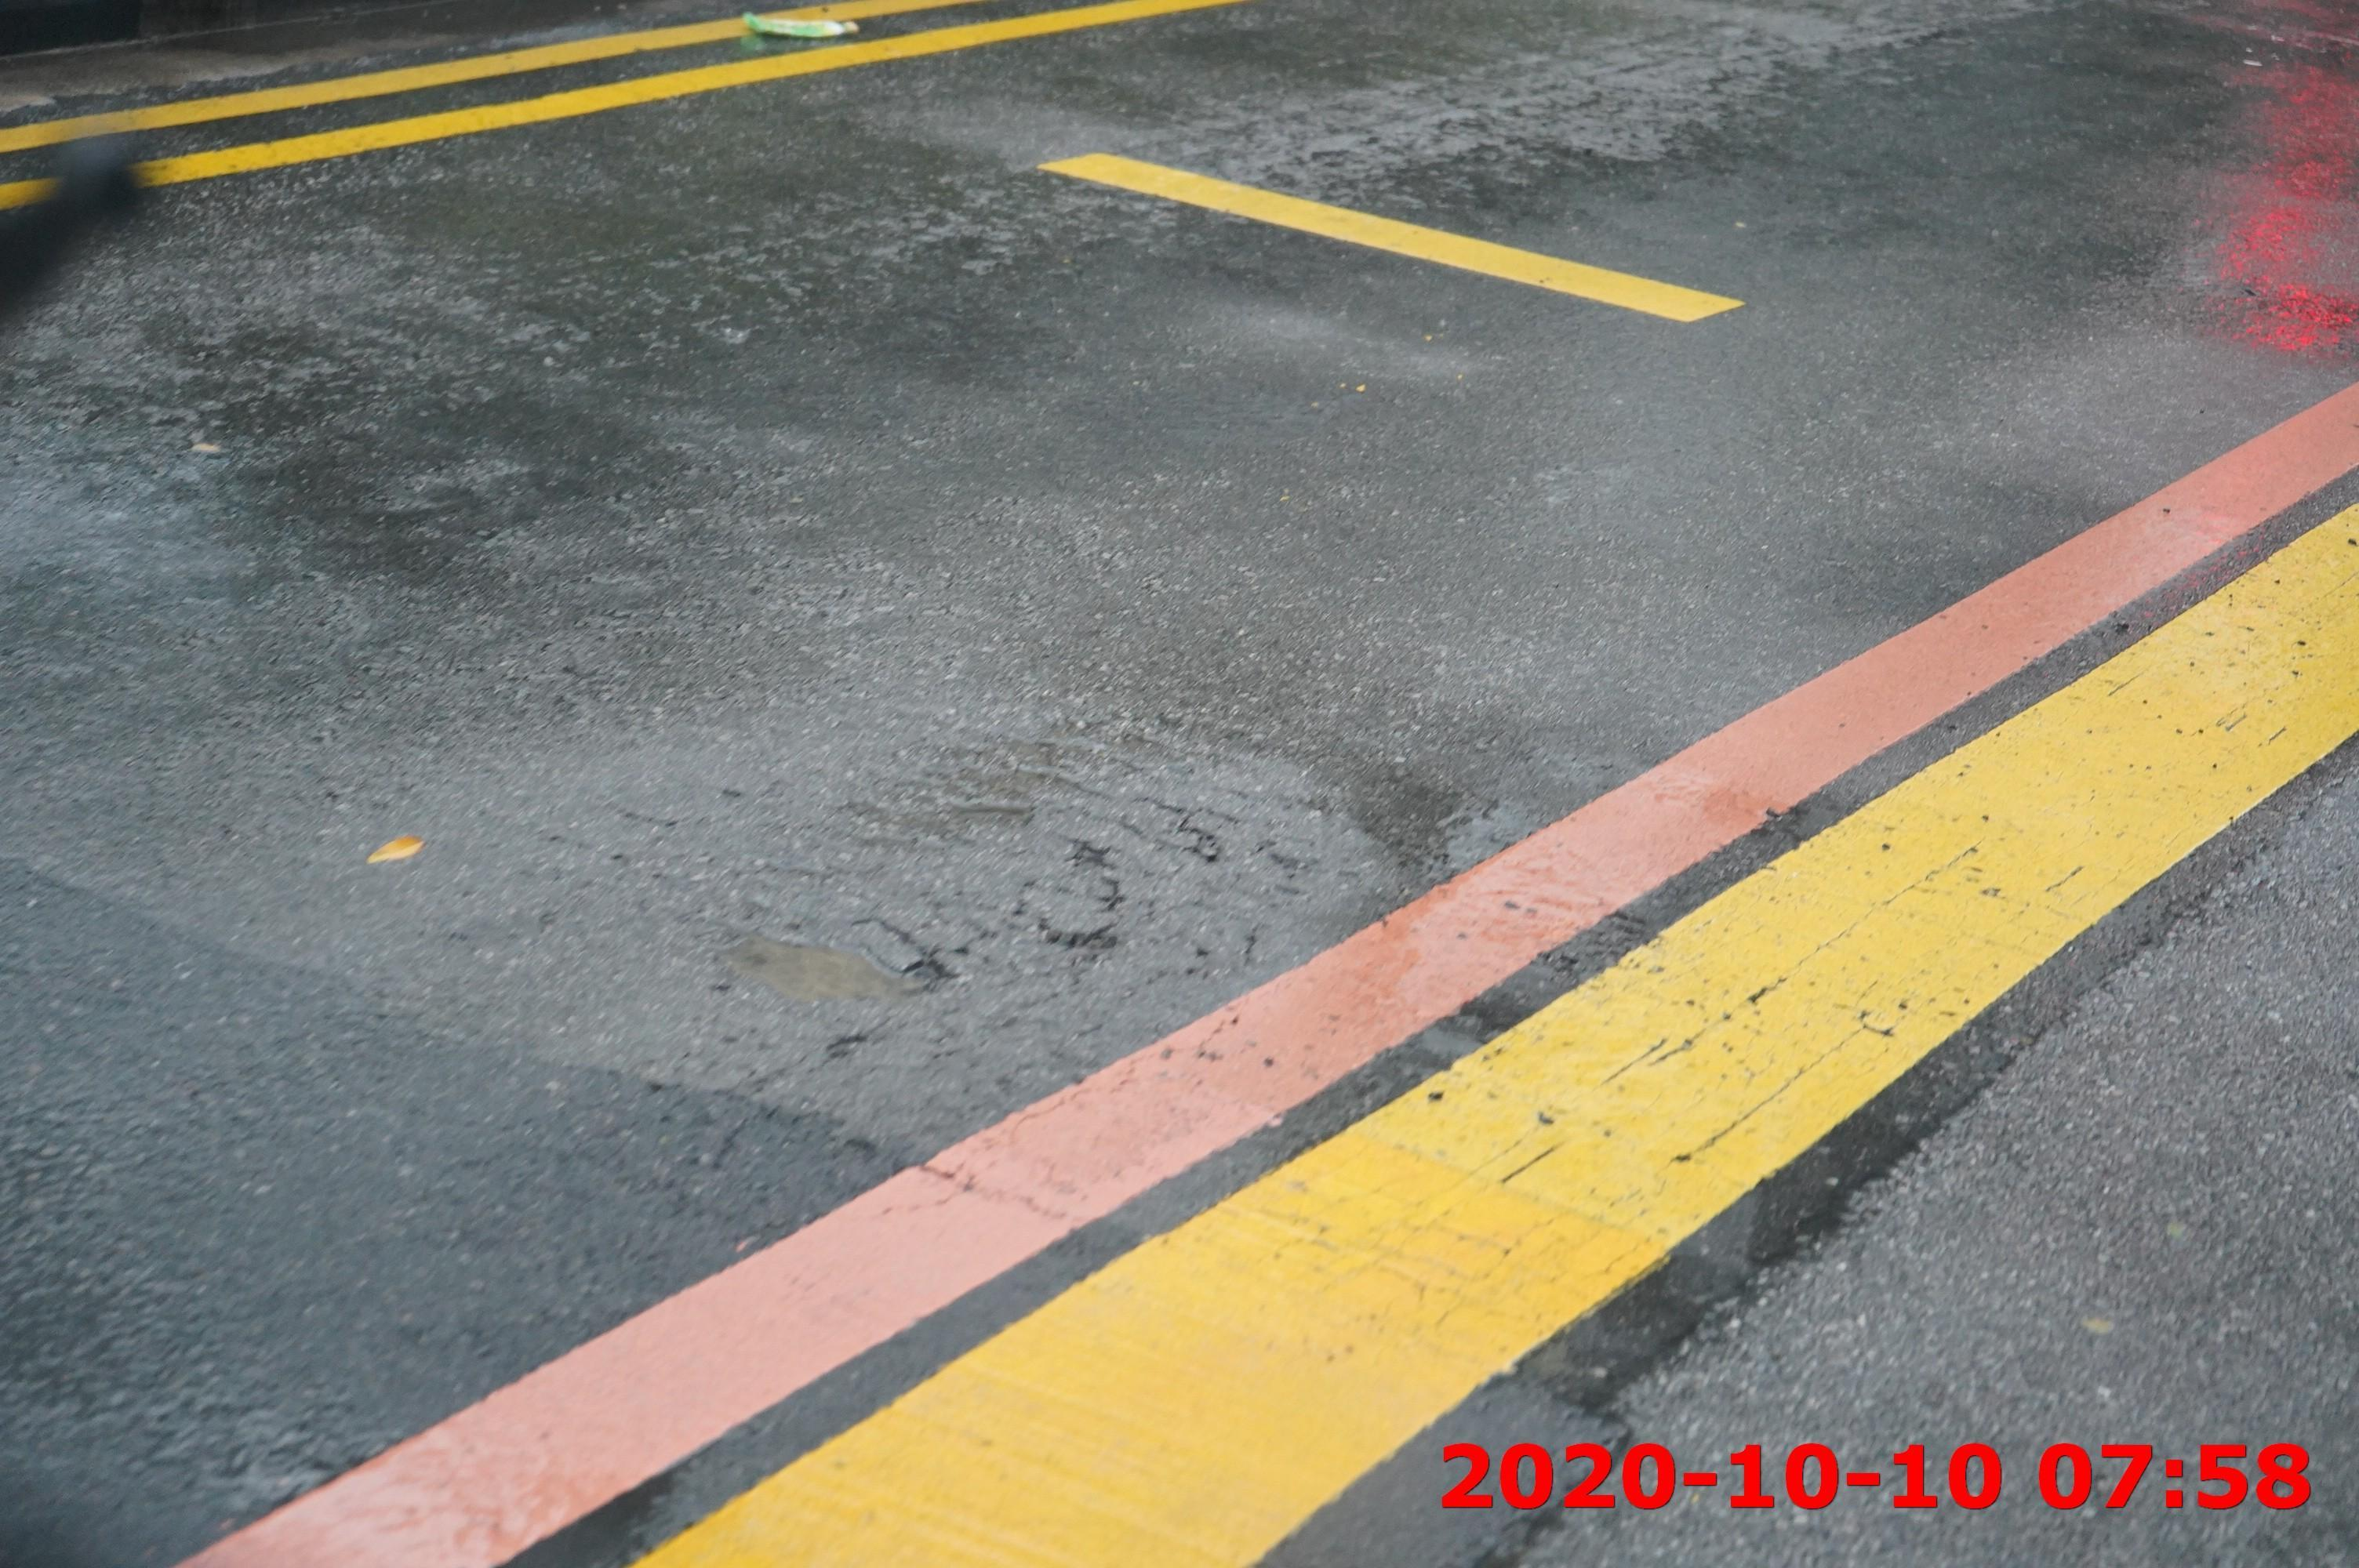pothole with crack: (688, 905, 920, 1031)
